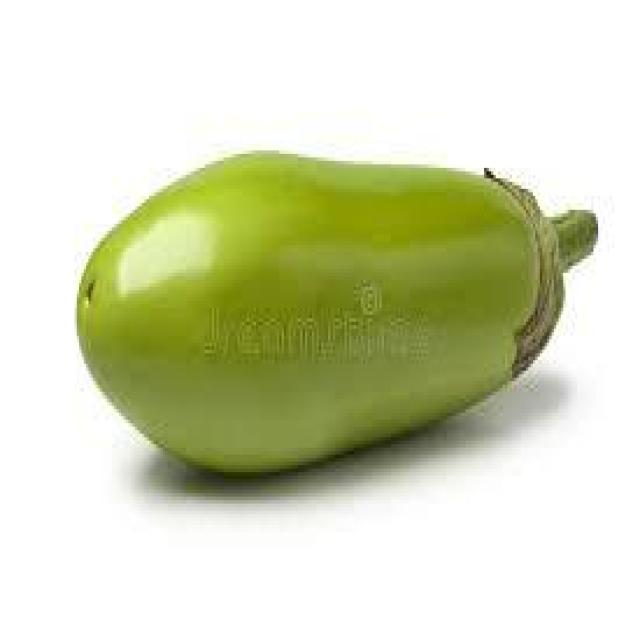organic: (74, 150, 598, 472)
